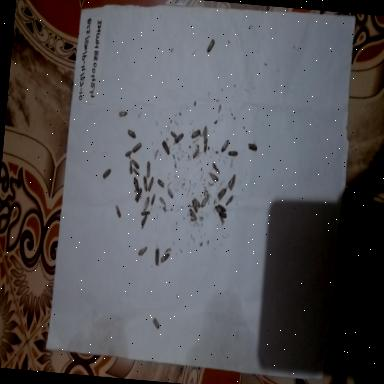pbw: (217, 210, 229, 226), (152, 244, 160, 267), (227, 174, 237, 192), (150, 317, 162, 332), (201, 125, 210, 145), (126, 128, 138, 142), (206, 38, 216, 54), (144, 160, 152, 180), (220, 138, 230, 154), (200, 193, 210, 209), (160, 140, 170, 156), (116, 107, 128, 120), (187, 208, 198, 222), (147, 176, 155, 194), (113, 203, 122, 219), (166, 186, 175, 202), (174, 132, 185, 145), (224, 196, 234, 210), (134, 187, 142, 204), (247, 142, 258, 154), (101, 168, 112, 180), (208, 172, 219, 184), (132, 176, 140, 192), (160, 252, 170, 264), (132, 142, 142, 154), (191, 128, 201, 140), (192, 198, 202, 210), (203, 135, 209, 155), (130, 158, 140, 170), (212, 205, 225, 214), (211, 162, 220, 175), (128, 157, 134, 176), (140, 215, 147, 231), (142, 198, 150, 212), (192, 146, 200, 160), (156, 178, 165, 190), (164, 246, 174, 256), (138, 246, 148, 256), (142, 178, 149, 192), (150, 192, 156, 208), (158, 196, 166, 207), (125, 148, 132, 160), (170, 130, 178, 140), (228, 150, 238, 158), (141, 210, 151, 217)
